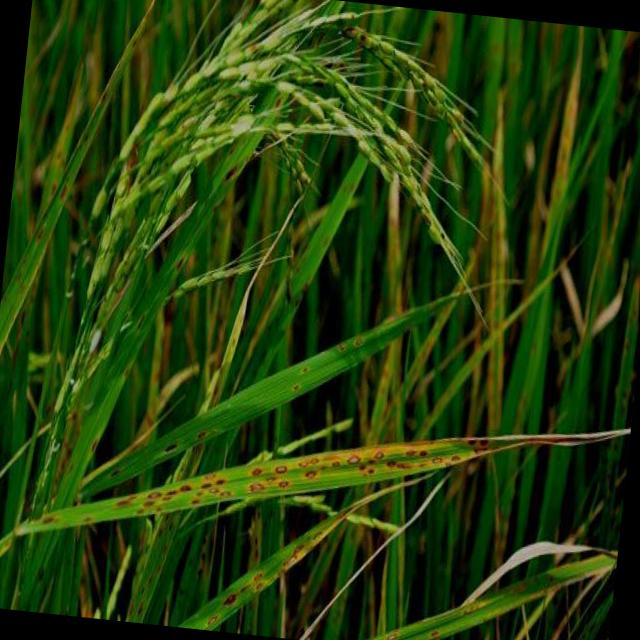Rice_Brownspot: (332, 324, 371, 356), (296, 453, 321, 478), (294, 266, 314, 294), (35, 504, 62, 524), (114, 488, 140, 508), (244, 572, 270, 591), (171, 244, 189, 270), (344, 444, 362, 468), (289, 538, 310, 558), (195, 419, 213, 442), (14, 268, 31, 292), (362, 455, 380, 477), (162, 435, 184, 452), (370, 442, 388, 462), (223, 160, 241, 180), (390, 455, 408, 474), (86, 433, 101, 455), (221, 589, 238, 606), (34, 220, 47, 242), (144, 486, 164, 500), (56, 176, 68, 198), (244, 462, 262, 476), (55, 144, 66, 166), (273, 458, 289, 472), (196, 476, 214, 488), (136, 579, 147, 598), (135, 598, 145, 616), (122, 354, 130, 376), (108, 464, 121, 477), (176, 480, 192, 490), (66, 455, 76, 471), (188, 494, 201, 506), (288, 378, 300, 391), (154, 497, 164, 512), (81, 509, 92, 522), (296, 364, 310, 374), (212, 472, 222, 484), (80, 128, 88, 142), (156, 522, 163, 536), (154, 559, 162, 571)
